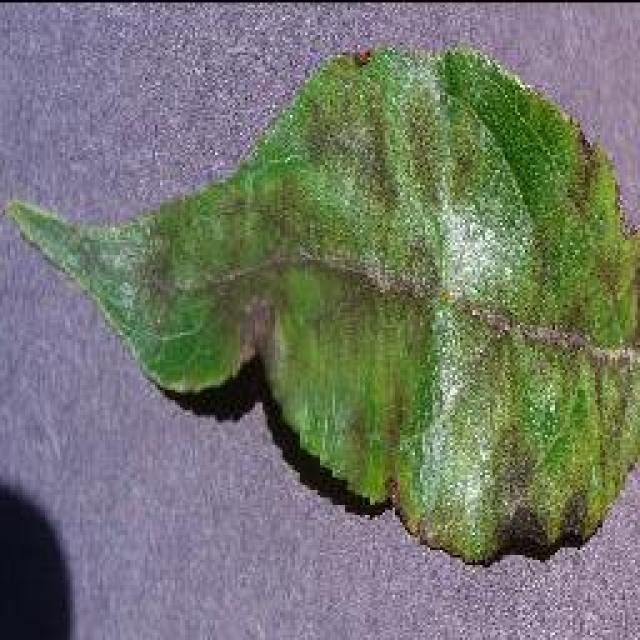apple scab disease: (2, 40, 638, 568)
